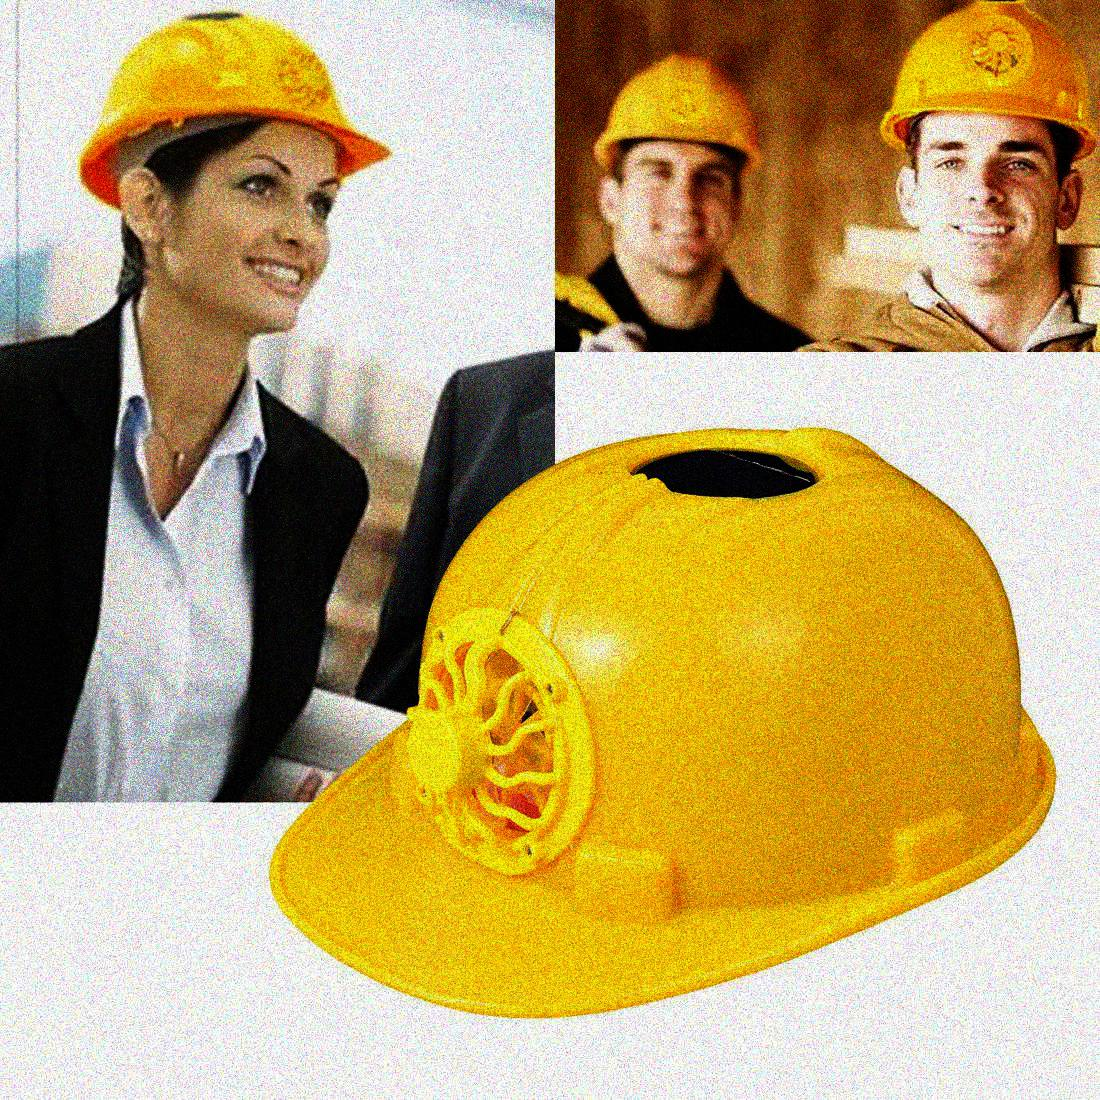helmet: (83, 7, 397, 334), (877, 5, 1097, 282), (589, 46, 763, 279)
